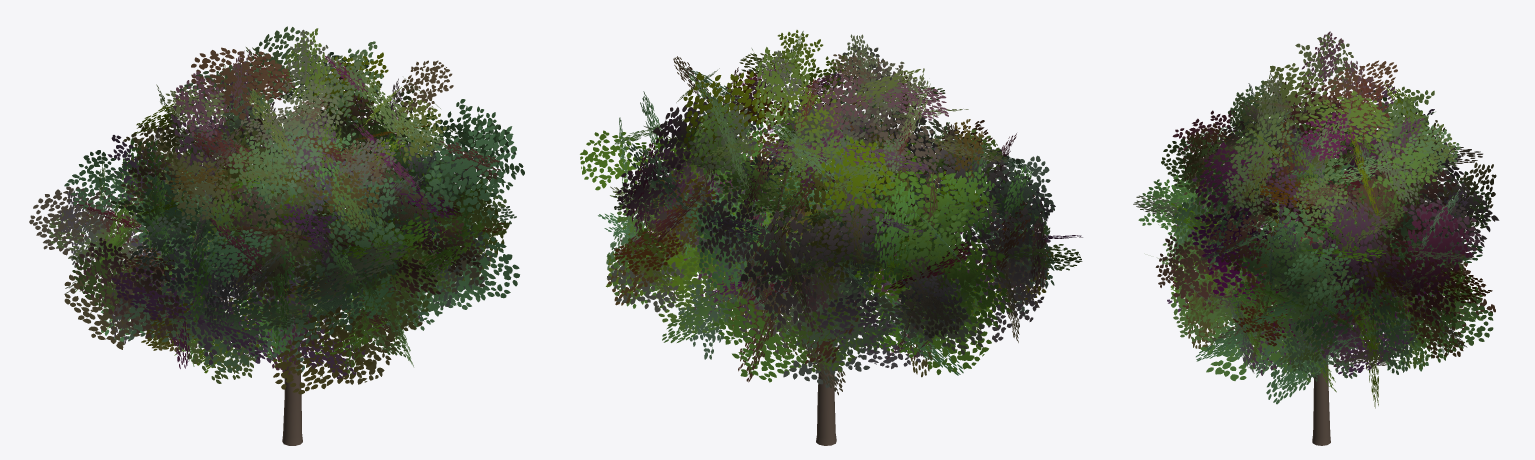
Rendered from tree_small_broad_canopy.glb.
3 views of the same model, side by side, from view 1: azimuth 30°, elevation 25°; view 2: azimuth 150°, elevation 25°; view 3: azimuth 270°, elevation 25° (orthographic). The views are drawn at different scales.
Visible parts, largest first — view 1: Tree_Foliage_480Cards_BroadSparse, Tree_Trunk_Stylized; view 2: Tree_Foliage_480Cards_BroadSparse, Tree_Trunk_Stylized; view 3: Tree_Foliage_480Cards_BroadSparse, Tree_Trunk_Stylized.
Boxes of the visible parts, bbox=[...] form: Tree_Foliage_480Cards_BroadSparse: bbox=[29, 26, 524, 394]; Tree_Trunk_Stylized: bbox=[282, 308, 302, 445]; Tree_Foliage_480Cards_BroadSparse: bbox=[580, 30, 1082, 395]; Tree_Trunk_Stylized: bbox=[816, 232, 836, 445]; Tree_Foliage_480Cards_BroadSparse: bbox=[1133, 31, 1499, 408]; Tree_Trunk_Stylized: bbox=[1312, 240, 1330, 445].
Size of the model in its own units: 7.7 by 6.24 by 5.77.
2 materials, 1 textured.
